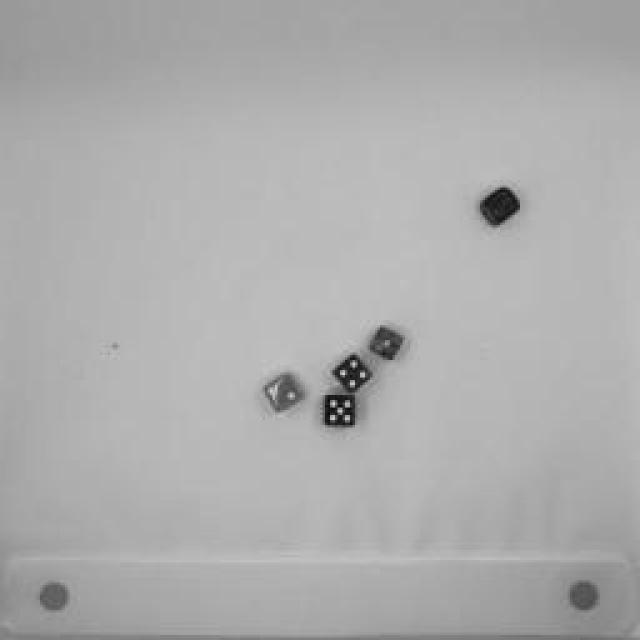dice_1: (369, 322, 401, 362)
dice_2: (263, 375, 305, 415)
dice_3: (478, 185, 524, 227)
dice_4: (332, 356, 370, 392)
dice_5: (319, 395, 359, 430)
